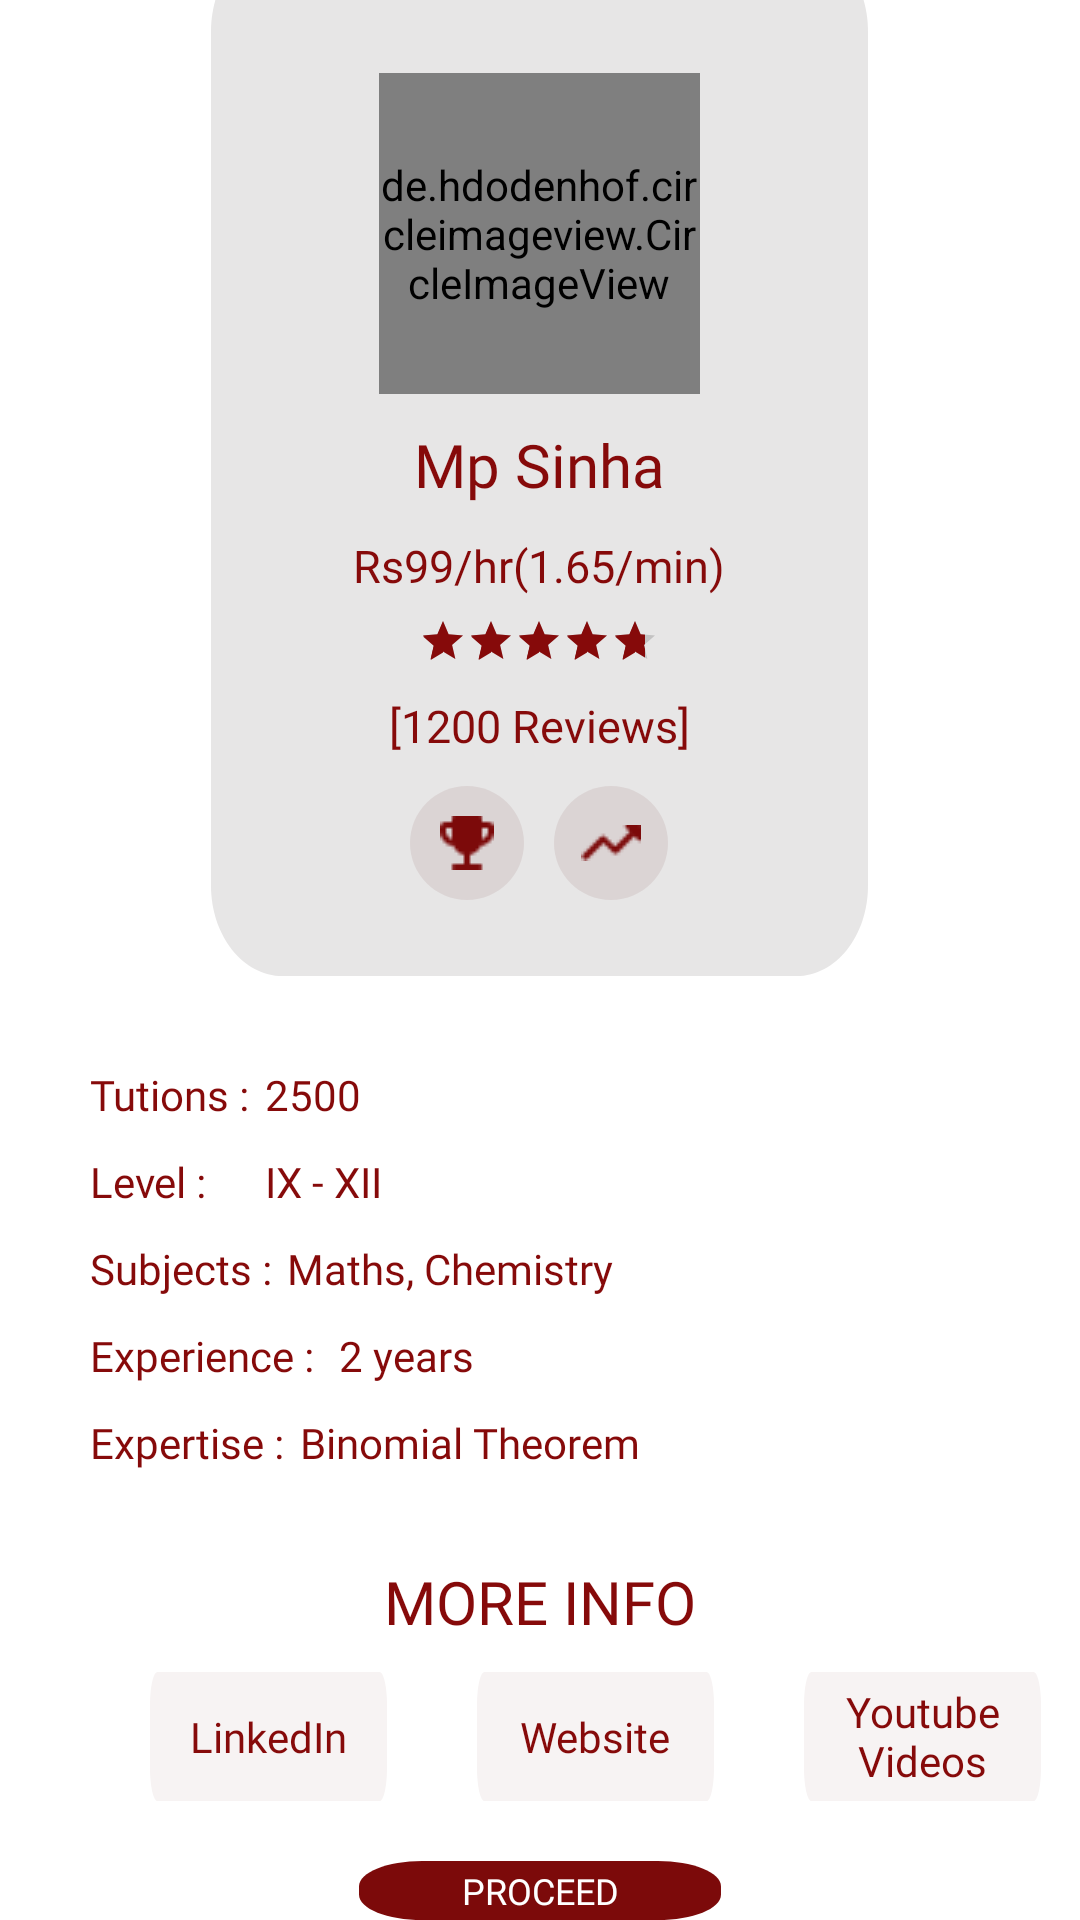

Icons on this 1080 × 1920 Android screen, each with its box as {"x1": x1, "y1": y1, "x2": x2, "y2": y2}:
trophy: {"x1": 440, "y1": 816, "x2": 494, "y2": 870}
